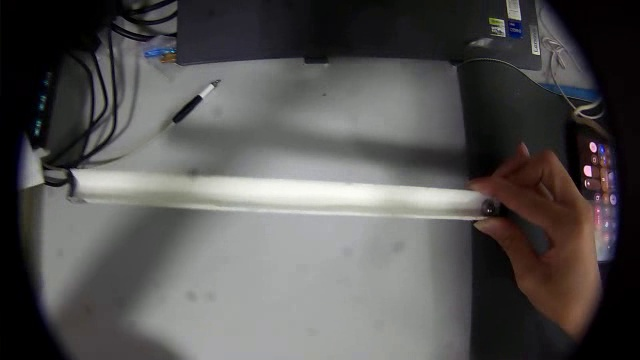gangzhu: (480, 198, 503, 217)
